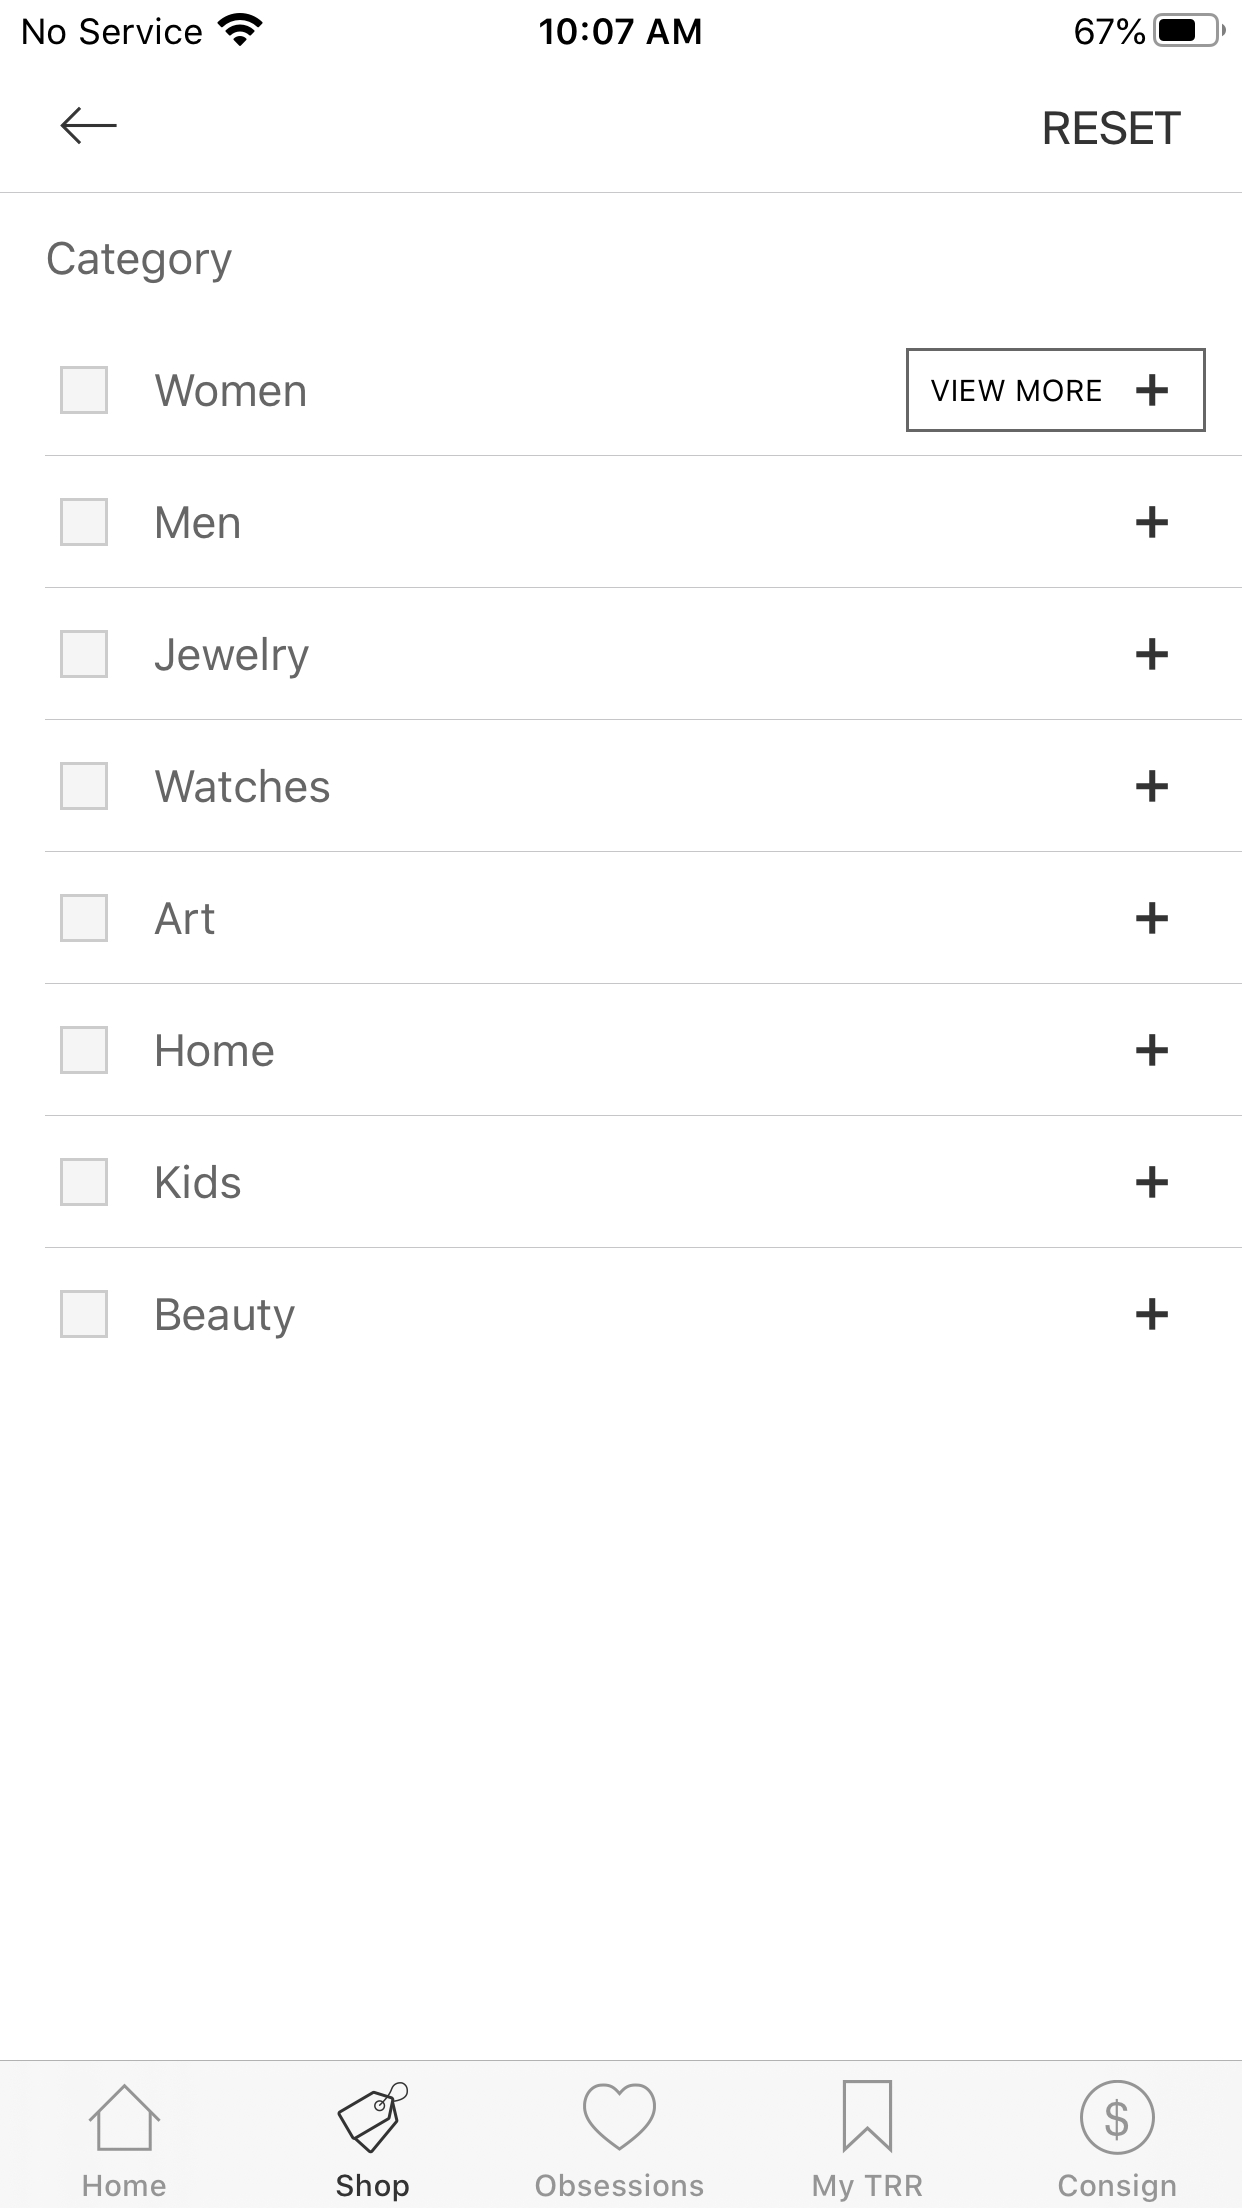CheckedTextView: (61, 761, 332, 811), (61, 629, 311, 681), (61, 365, 306, 416), (61, 1291, 296, 1341), (61, 1027, 276, 1075), (61, 497, 241, 547), (61, 1159, 243, 1207), (61, 895, 218, 943)
Icon: (1080, 2081, 1156, 2155), (338, 2082, 409, 2153), (584, 2084, 657, 2150), (89, 2084, 162, 2150), (842, 2081, 893, 2153), (61, 108, 118, 146), (1136, 1166, 1168, 1200), (1136, 1034, 1168, 1068), (1136, 902, 1168, 936), (1136, 770, 1168, 804), (1136, 1298, 1168, 1330), (1136, 638, 1168, 670), (1136, 507, 1168, 538), (1136, 375, 1168, 406)
Text: (49, 243, 234, 284), (156, 637, 309, 679), (156, 769, 331, 804), (158, 1298, 296, 1339), (156, 375, 306, 408), (1043, 111, 1181, 146), (535, 2173, 704, 2197), (158, 1034, 274, 1068), (931, 381, 1101, 402), (1059, 2173, 1175, 2202), (813, 2175, 922, 2202), (158, 1165, 243, 1200), (158, 507, 240, 540), (337, 2173, 409, 2202), (155, 902, 215, 936), (83, 2175, 167, 2197)
TextButton: (905, 349, 1206, 434)
UpperTaskBar: (2, 2, 1242, 49)
